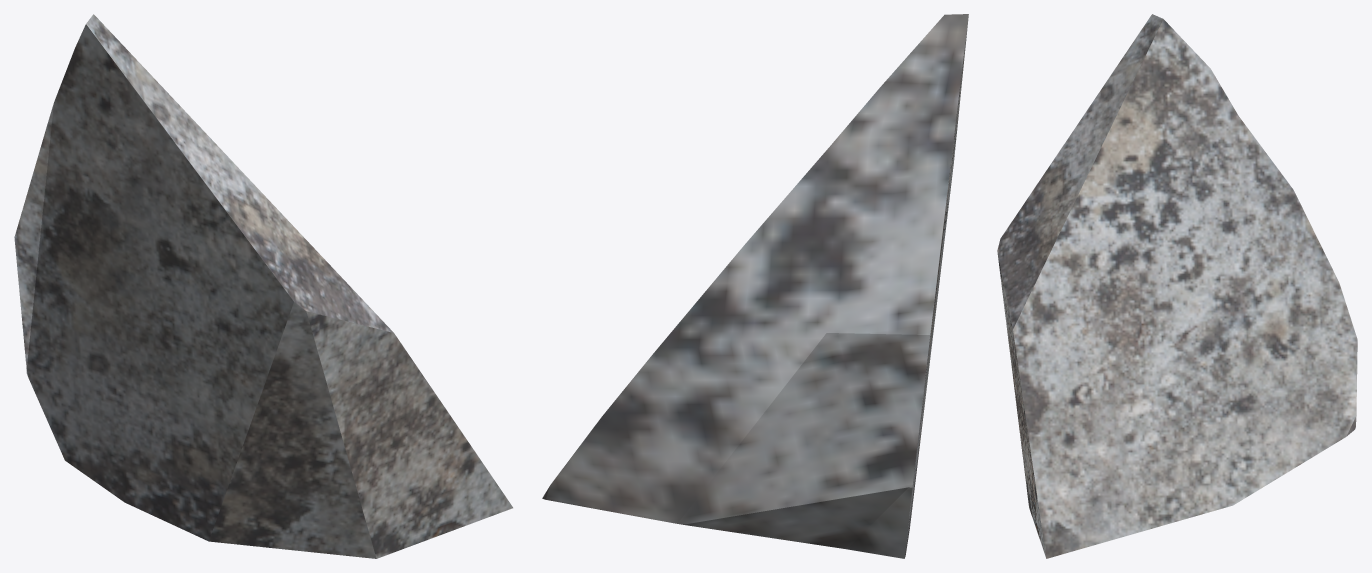
Rendered from Asteroid_Medium_001_02_003_03_009.fbx.
3 views of the same model, side by side, from view 1: azimuth 30°, elevation 25°; view 2: azimuth 150°, elevation 25°; view 3: azimuth 270°, elevation 25° (orthographic). The views are drawn at different scales.
Visible parts, largest first — view 1: Asteroid_Medium_001_02_003_03_009; view 2: Asteroid_Medium_001_02_003_03_009; view 3: Asteroid_Medium_001_02_003_03_009.
Boxes of the visible parts, x1,y1,x2,y2 form: Asteroid_Medium_001_02_003_03_009: [14, 14, 512, 558]; Asteroid_Medium_001_02_003_03_009: [542, 14, 968, 558]; Asteroid_Medium_001_02_003_03_009: [997, 14, 1357, 558].
Size of the model in its own units: 7.81 by 10.46 by 8.26.
